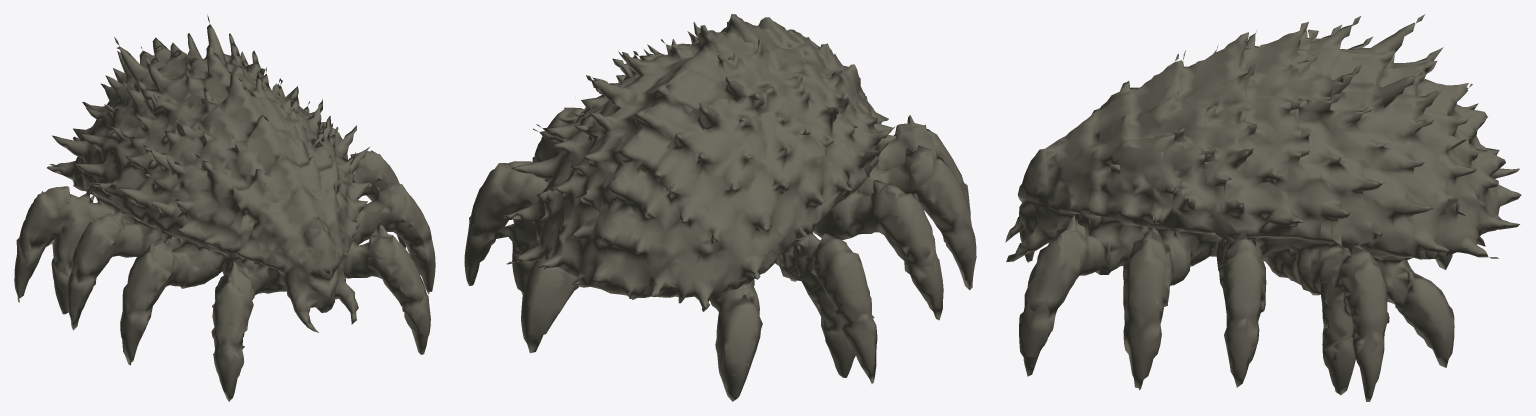
File: spiked_crawler.glb
3 views of the same model, side by side, from view 1: azimuth 30°, elevation 25°; view 2: azimuth 150°, elevation 25°; view 3: azimuth 270°, elevation 25° (orthographic). The views are drawn at different scales.
Visible parts, largest first — view 1: reduced; view 2: reduced; view 3: reduced.
Boxes of the visible parts, x1,y1,x2,y2 form: reduced: [14, 14, 435, 401]; reduced: [464, 14, 976, 401]; reduced: [1005, 14, 1521, 401].
Bounding box in the file's own units: 1.7 × 1.19 × 1.87.
1 material, 1 textured.
